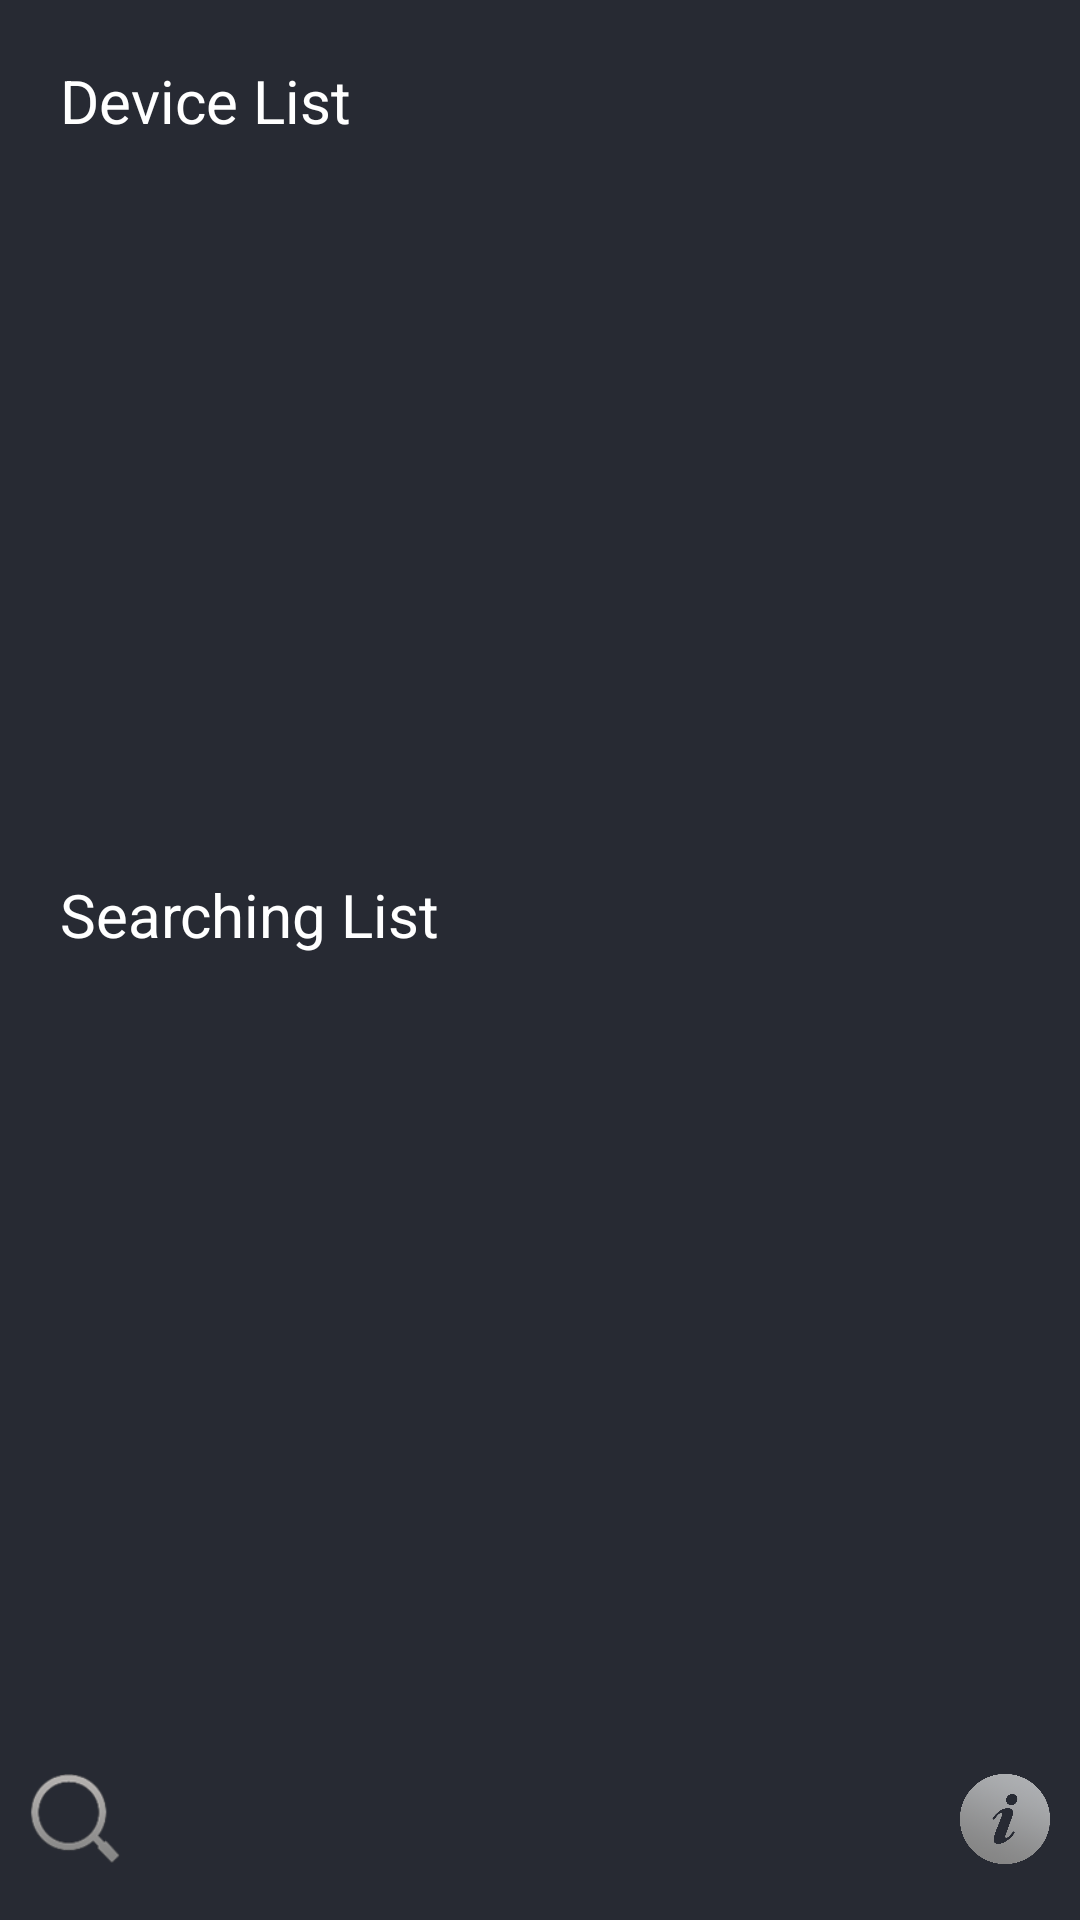

Point at icon controls on the screen. Image size 1080w x 1920h, points as (x=x, y=y).
scan: (x=75, y=1818)
